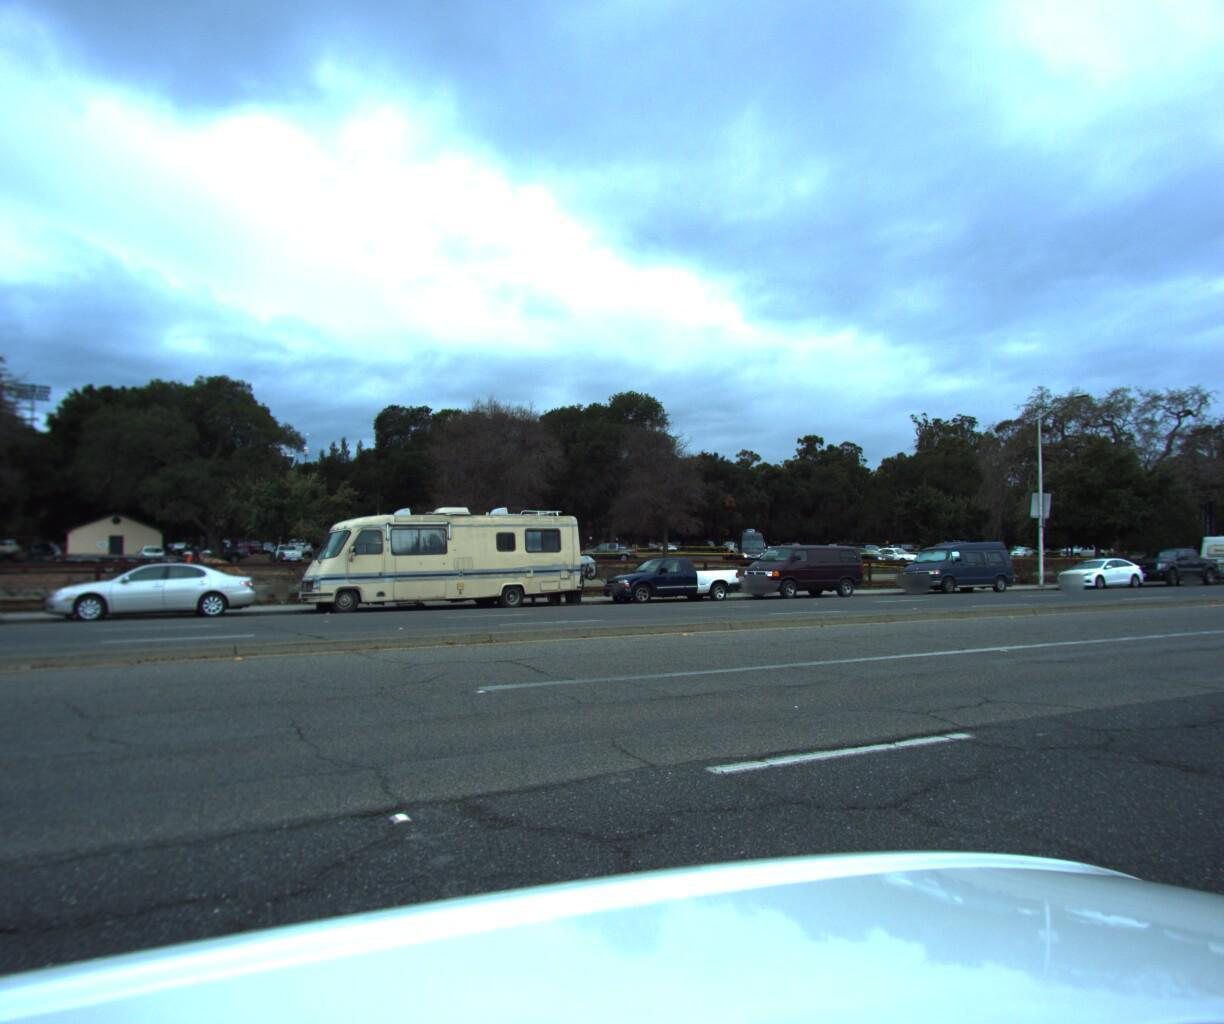car: (33, 557, 261, 623), (596, 551, 744, 606), (732, 539, 867, 598), (891, 539, 1016, 591), (1113, 542, 1218, 583), (1043, 552, 1144, 587)
other_vehicle: (287, 497, 594, 616), (1189, 522, 1224, 582), (0, 470, 1, 651)
